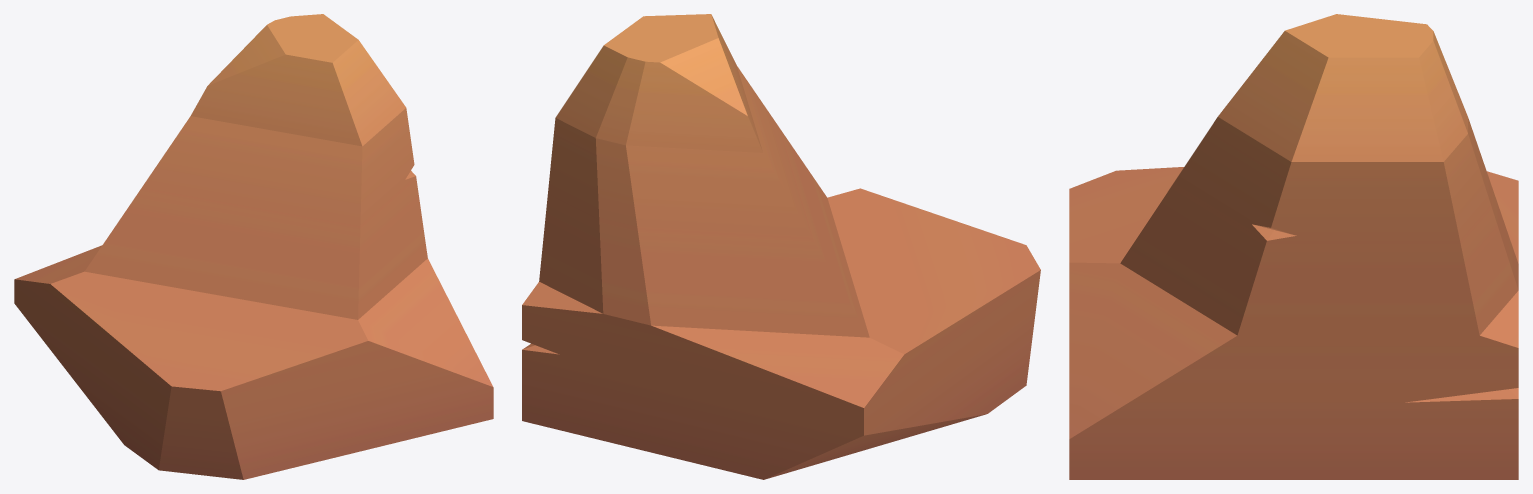
The picture shows the model from 3 angles, left to right: view 1: azimuth 30°, elevation 25°; view 2: azimuth 150°, elevation 25°; view 3: azimuth 270°, elevation 25°; orthographic projection. The views are drawn at different scales.
Visible parts, largest first — view 1: Plane_5; view 2: Plane_5; view 3: Plane_5.
Boxes of the visible parts, x1,y1,x2,y2 form: Plane_5: (14, 14, 493, 479); Plane_5: (522, 14, 1040, 479); Plane_5: (1069, 14, 1518, 479).
Bounding box in the file's own units: 1.11 × 1.1 × 1.11.
